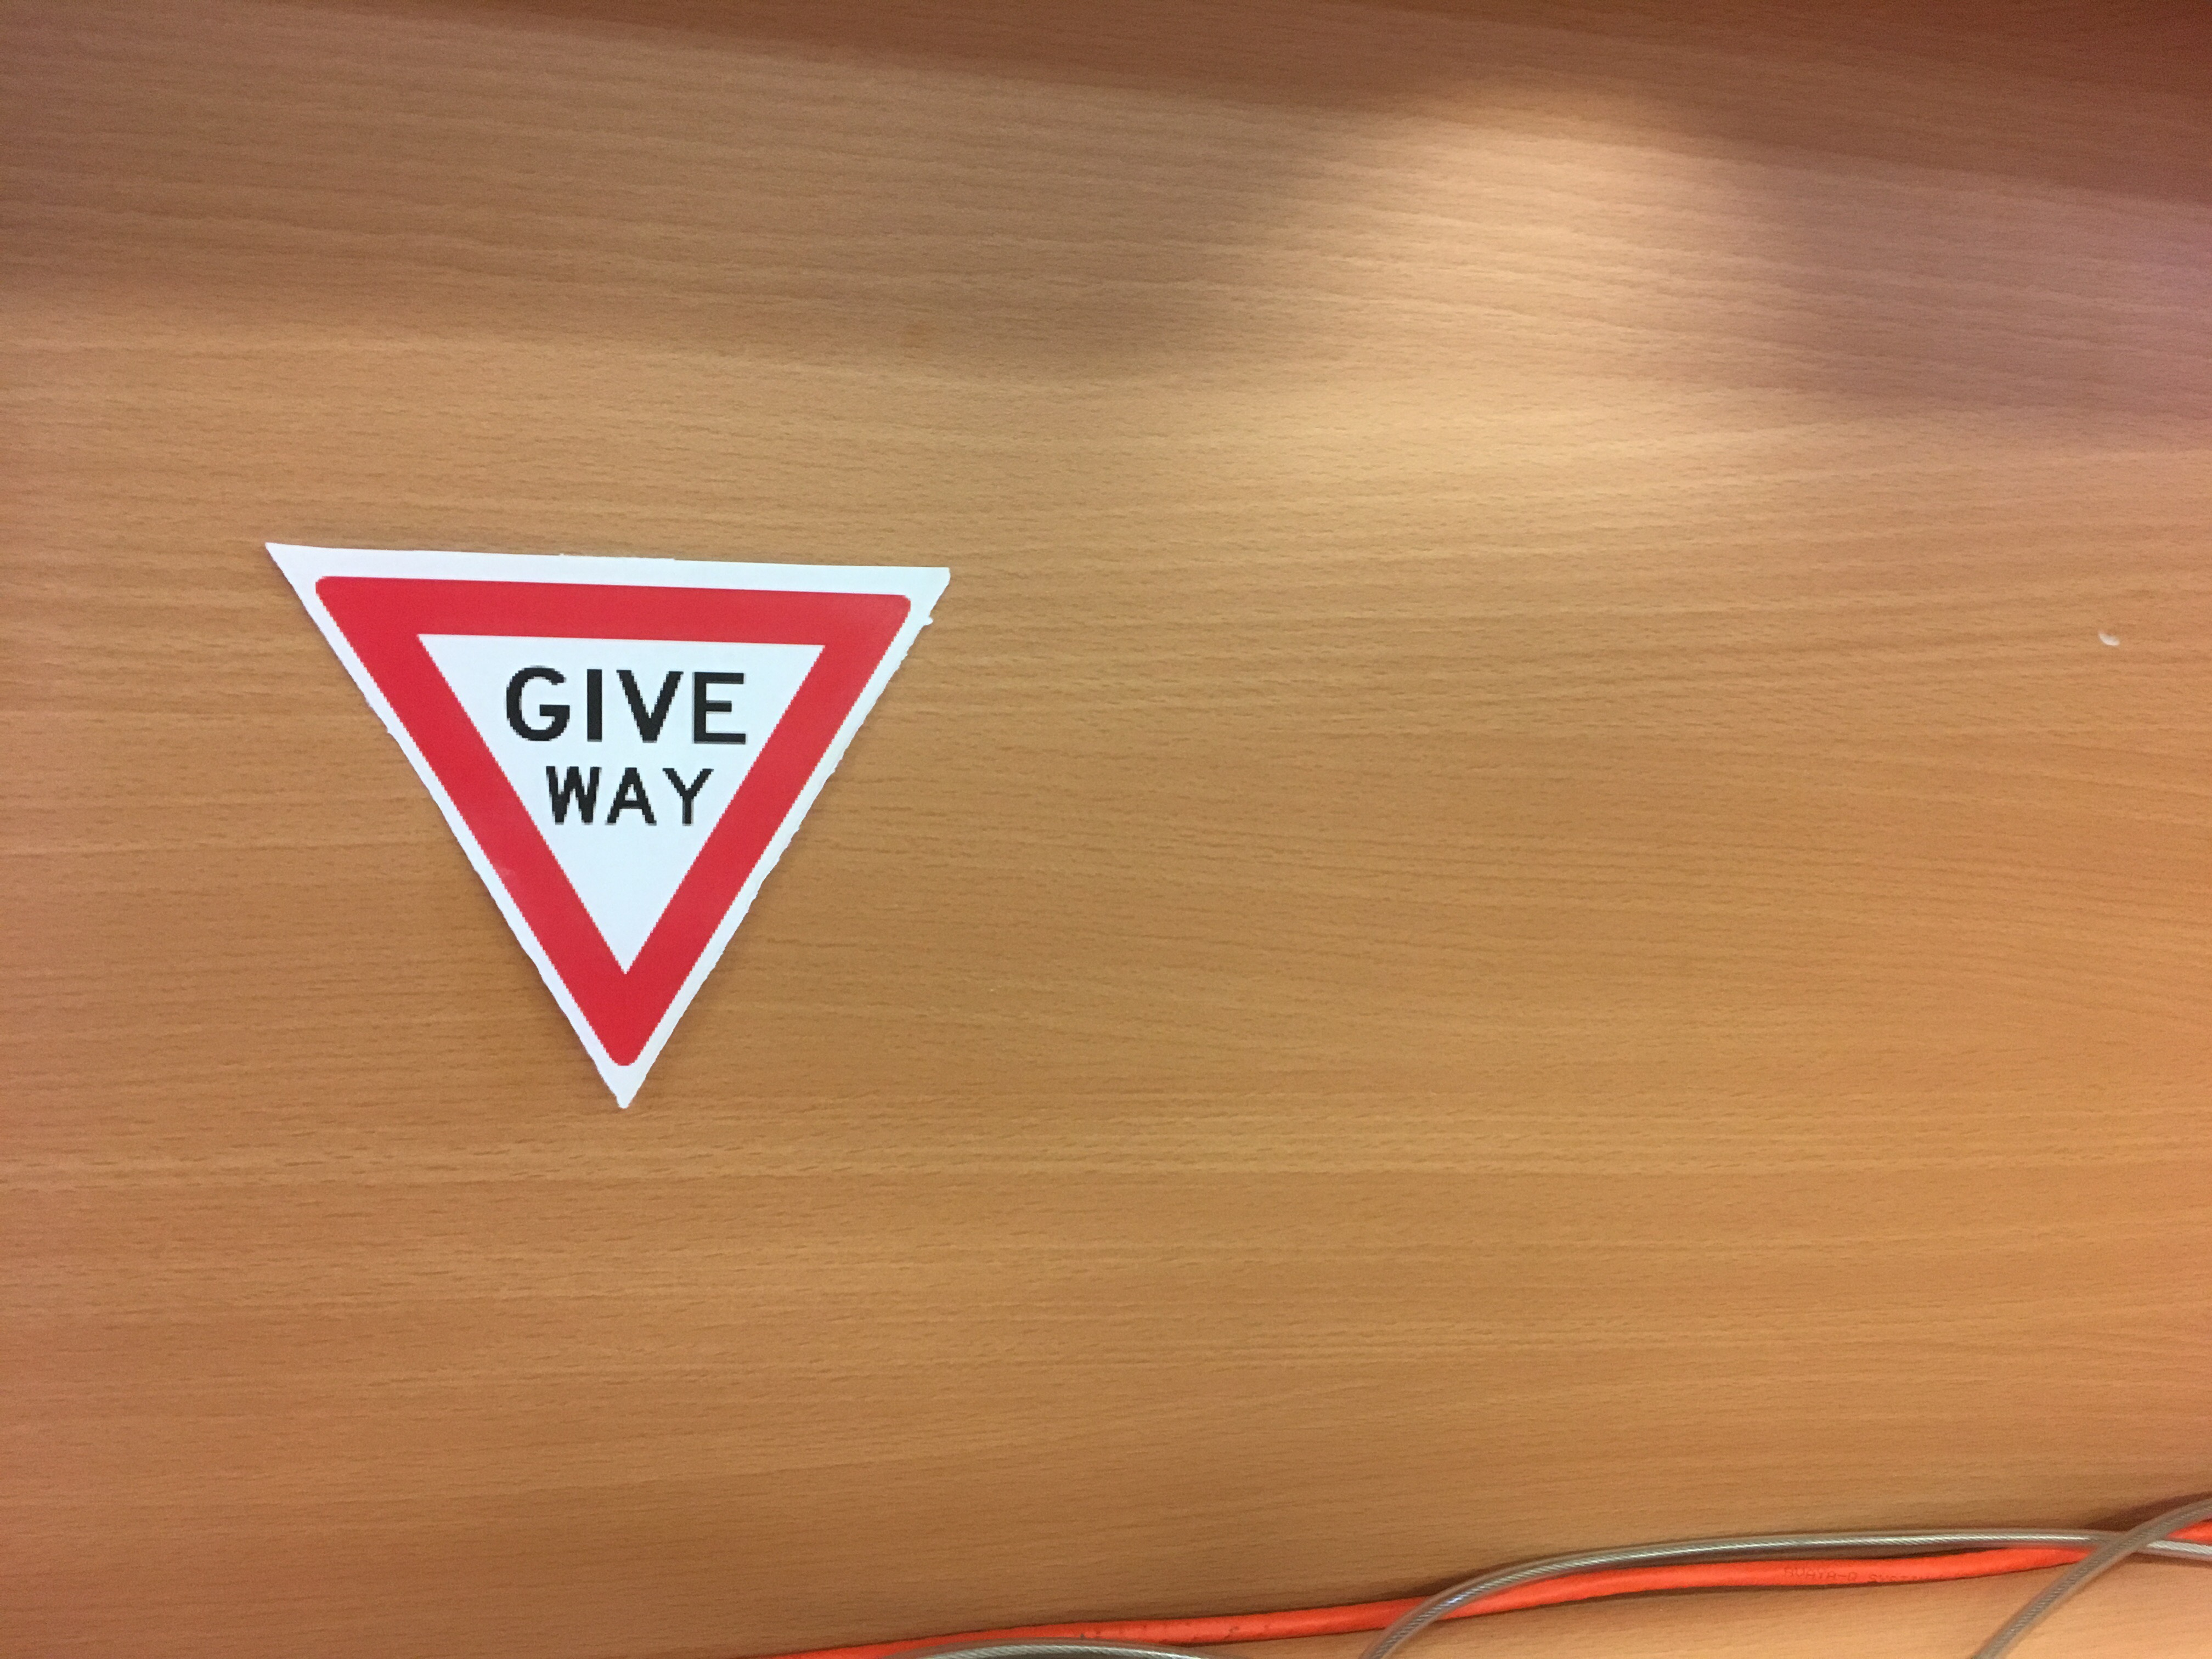giveway: (273, 549, 942, 1105), (284, 549, 657, 1150), (615, 572, 873, 1140), (320, 565, 866, 788), (547, 587, 704, 1066)
